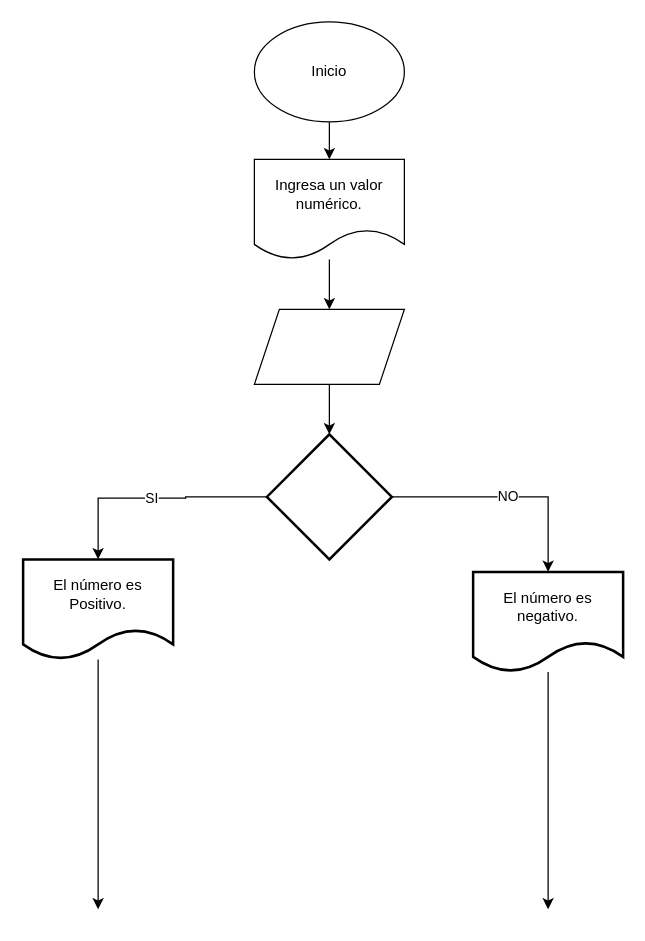
Some shapes in this 645 by 941 pixel diagram are drawn without their labels. Here are the shapes that lost their labels. From the top down, the centre of each, then its label:
At point (328, 346): "Leer N".
At point (328, 496): "N >0".
